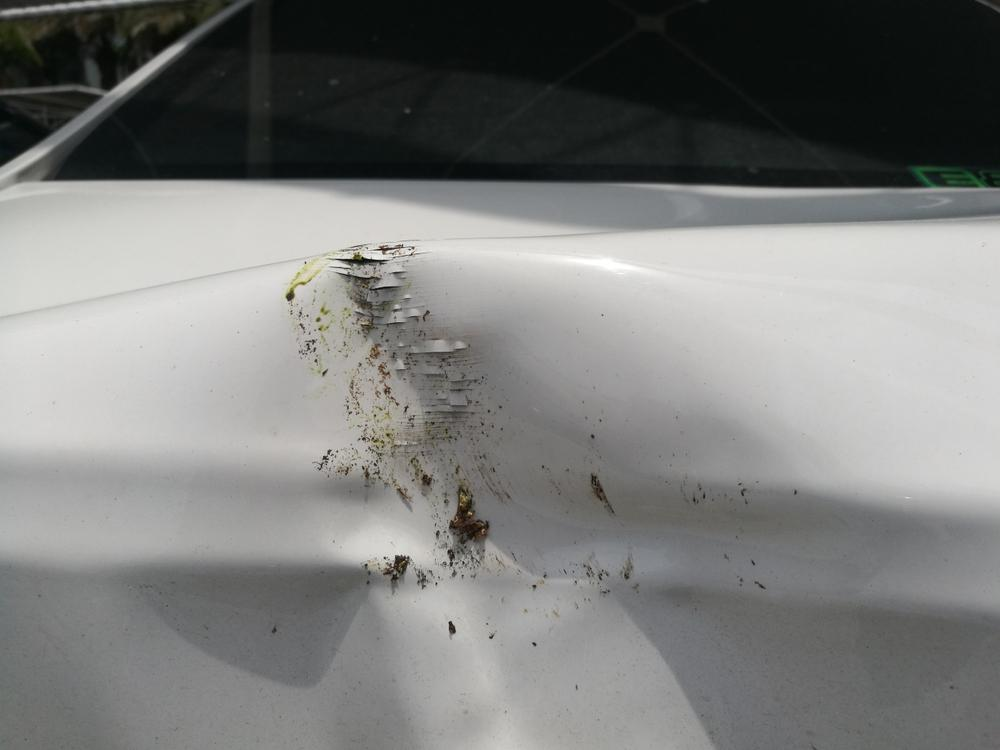dent: (136, 243, 812, 750)
